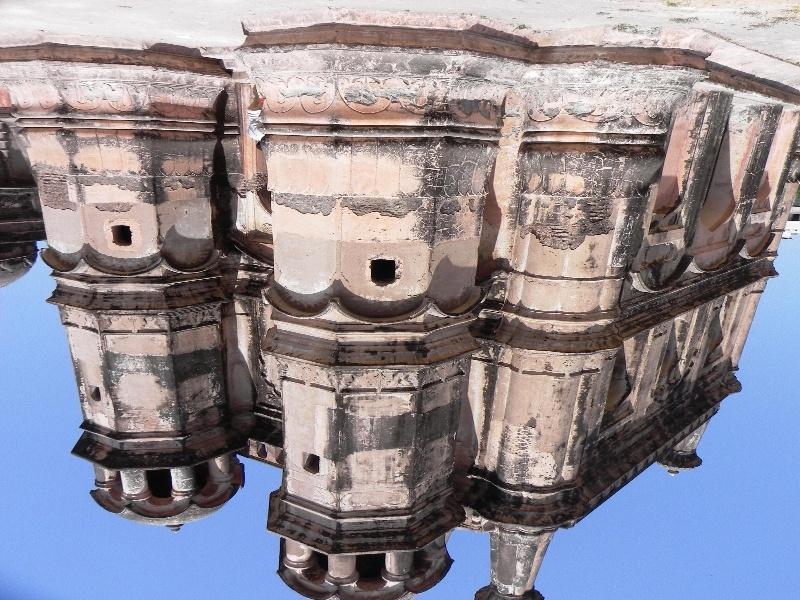Exposed Bricks: (34, 165, 74, 208), (534, 217, 578, 247), (588, 195, 610, 225)
Spalling: (266, 186, 482, 219)
